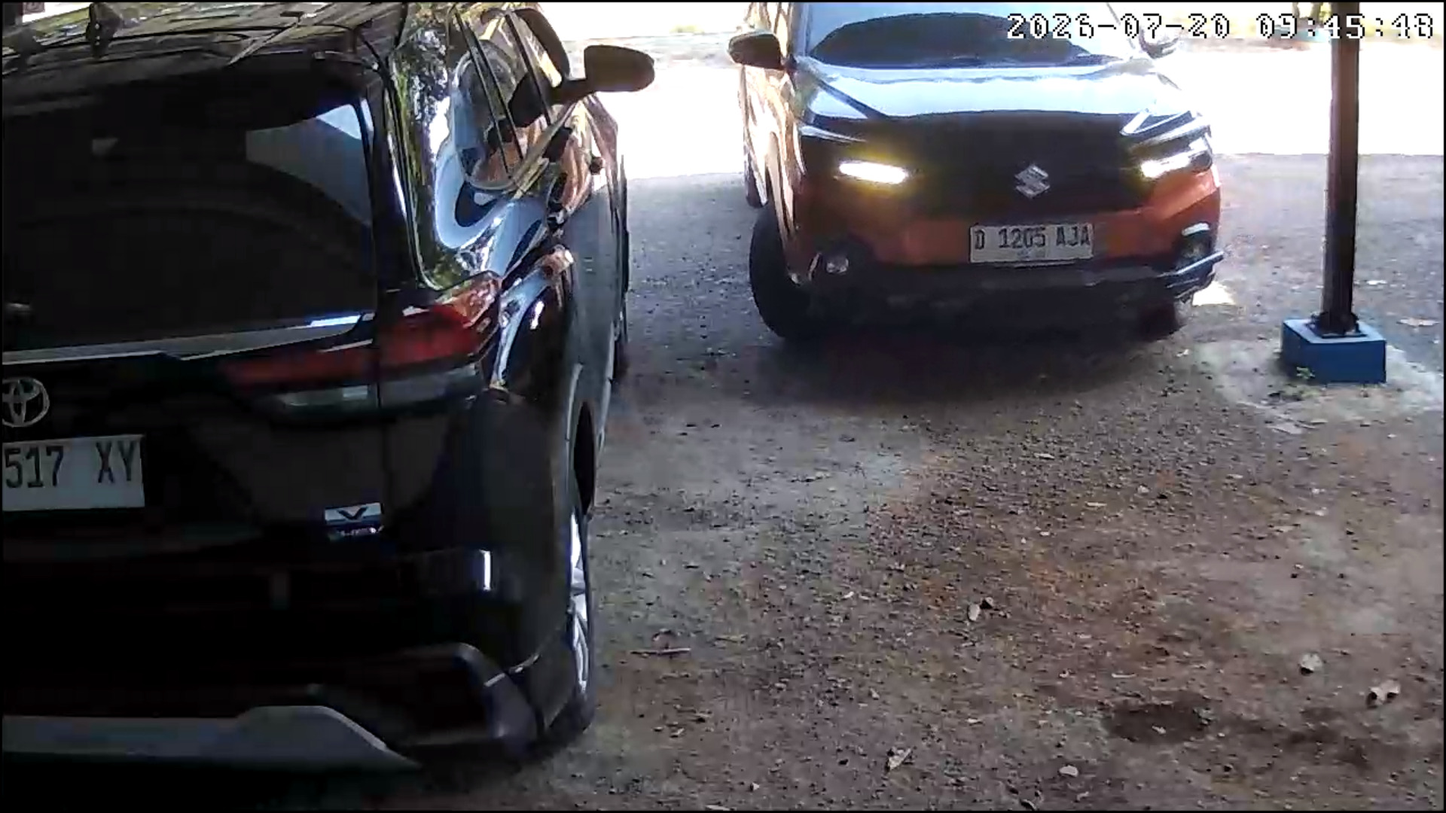plat nomor: (0, 430, 146, 522), (968, 222, 1095, 265)
